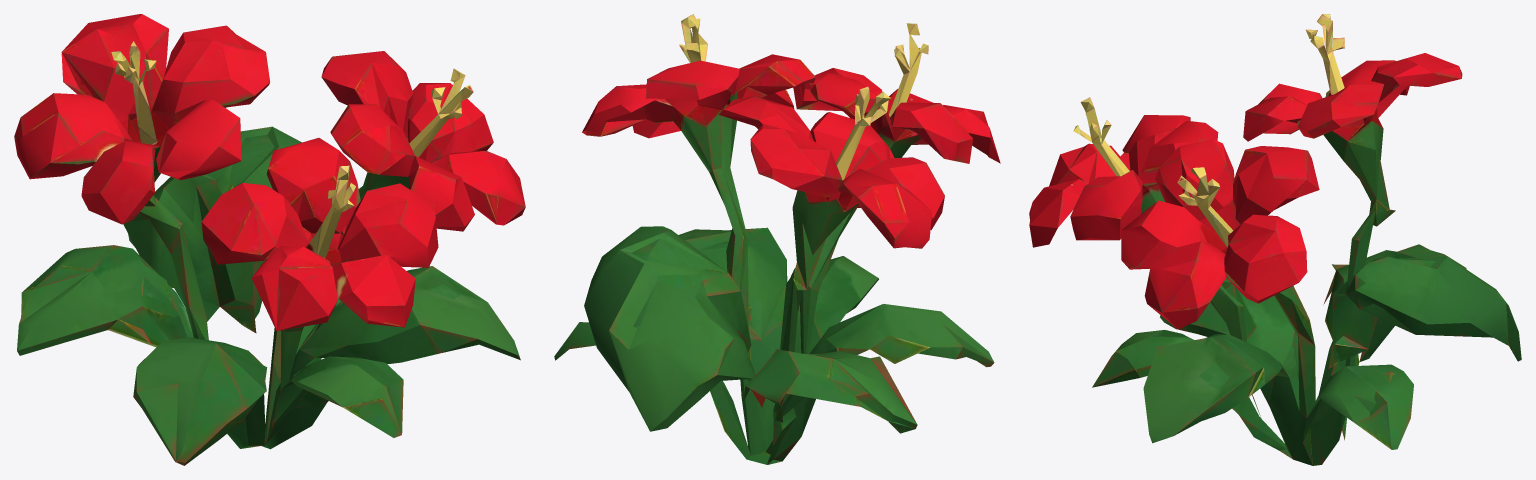
The model's file is nature-flower-red.glb.
3 views of the same model, side by side, from view 1: azimuth 30°, elevation 25°; view 2: azimuth 150°, elevation 25°; view 3: azimuth 270°, elevation 25° (orthographic). The views are drawn at different scales.
Parts seen in each view (by area): view 1: nature-flower-red-fit; view 2: nature-flower-red-fit; view 3: nature-flower-red-fit.
Part boxes in pixels (x1,y1,x2,y2): nature-flower-red-fit: (14,14,525,465); nature-flower-red-fit: (554,14,1000,464); nature-flower-red-fit: (1029,14,1521,465).
Bounding box in the file's own units: 0.3725 × 0.3703 × 0.4256.
1 material, 1 textured.
